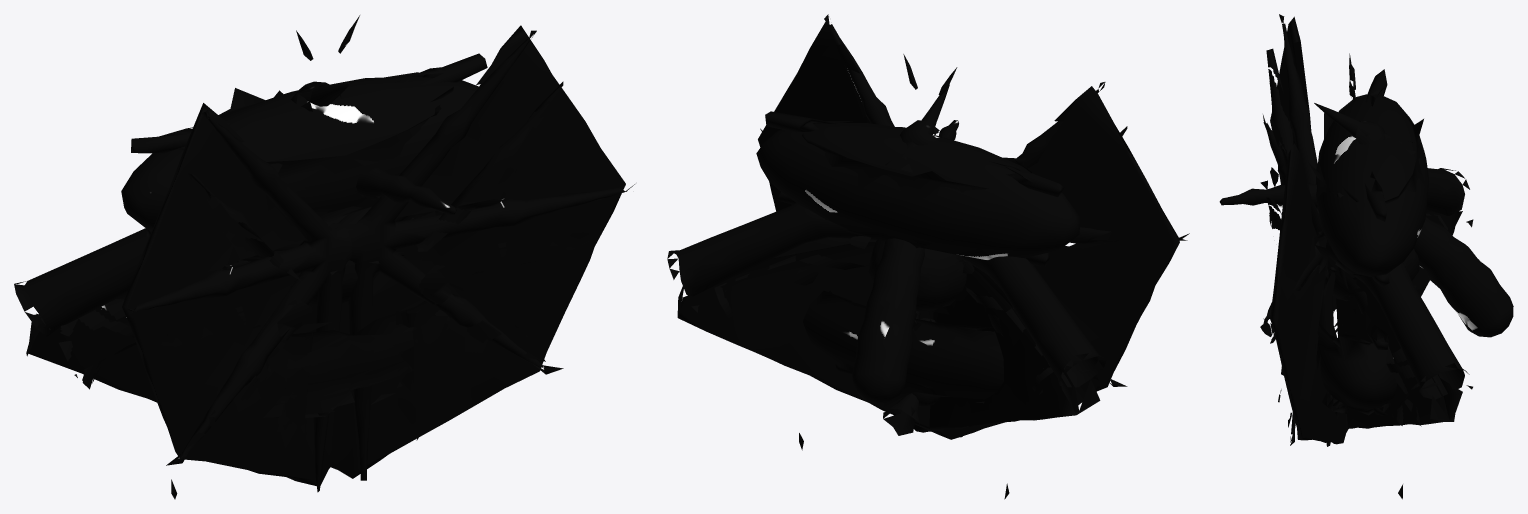
The model's file is CurseBack.obj.
3 views of the same model, side by side, from view 1: azimuth 30°, elevation 25°; view 2: azimuth 150°, elevation 25°; view 3: azimuth 270°, elevation 25° (orthographic). The views are drawn at different scales.
Visible parts, largest first — view 1: Wing_Membrane, Wing_Membrane_L, Shell_SkinDeep, BoneWing_Bone, BoneWing_Bone_L, Wing_SkinDark, Wing_SkinDark_L, Shell_SkinDark, Shell_BoneDark, Tendril_Skin; view 2: Wing_Membrane_L, Shell_SkinDeep, Wing_Membrane, BoneWing_Bone_L, Tendril_Skin, BoneWing_Bone, Shell_SkinDark, Shell_BoneDark, Spikes_Bone, Wing_SkinDark_L, Wing_Skin, Wing_SkinDark (+2 smaller); view 3: Shell_SkinDeep, Wing_Membrane, BoneWing_Bone_L, Tendril_Skin, Wing_Membrane_L, BoneWing_Bone, Wing_SkinDark_L, Shell_SkinDark, Shell_BoneDark, Wing_SkinDark, Spikes_Bone, BoneWing_Skin_L (+2 smaller).
Part boxes in pixels (x1=…): Wing_Membrane: x1=26, y1=25, x2=625, y2=478; Wing_Membrane_L: x1=122, y1=103, x2=443, y2=485; Shell_SkinDeep: x1=121, y1=76, x2=478, y2=417; BoneWing_Bone: x1=14, y1=30, x2=634, y2=480; BoneWing_Bone_L: x1=125, y1=110, x2=503, y2=492; Wing_SkinDark: x1=36, y1=81, x2=592, y2=423; Wing_SkinDark_L: x1=160, y1=173, x2=443, y2=450; Shell_SkinDark: x1=177, y1=72, x2=453, y2=417; Shell_BoneDark: x1=131, y1=53, x2=487, y2=295; Tendril_Skin: x1=356, y1=167, x2=456, y2=215; Wing_Membrane_L: x1=677, y1=86, x2=1179, y2=439; Shell_SkinDeep: x1=756, y1=123, x2=1080, y2=406; Wing_Membrane: x1=758, y1=21, x2=1100, y2=432; BoneWing_Bone_L: x1=667, y1=82, x2=1189, y2=437; Tendril_Skin: x1=852, y1=120, x2=958, y2=403; BoneWing_Bone: x1=760, y1=14, x2=1106, y2=387; Shell_SkinDark: x1=802, y1=121, x2=1033, y2=396; Shell_BoneDark: x1=765, y1=111, x2=1064, y2=314; Spikes_Bone: x1=883, y1=84, x2=949, y2=435; Wing_SkinDark_L: x1=691, y1=126, x2=1127, y2=319; Wing_Skin: x1=872, y1=248, x2=966, y2=312; Wing_SkinDark: x1=963, y1=260, x2=1100, y2=404; Shell_SkinDeep: x1=1315, y1=94, x2=1428, y2=419; Wing_Membrane: x1=1270, y1=143, x2=1462, y2=444; BoneWing_Bone_L: x1=1263, y1=14, x2=1469, y2=399; Tendril_Skin: x1=1219, y1=183, x2=1513, y2=337; Wing_Membrane_L: x1=1270, y1=16, x2=1462, y2=428; BoneWing_Bone: x1=1263, y1=145, x2=1469, y2=446; Wing_SkinDark_L: x1=1260, y1=48, x2=1472, y2=426; Shell_SkinDark: x1=1308, y1=94, x2=1429, y2=413; Shell_BoneDark: x1=1352, y1=69, x2=1390, y2=415; Wing_SkinDark: x1=1260, y1=197, x2=1473, y2=427; Spikes_Bone: x1=1314, y1=103, x2=1416, y2=287; BoneWing_Skin_L: x1=1325, y1=250, x2=1416, y2=301.
Size of the model in its own units: 2.58 by 2.26 by 1.56.
Materials: 13 (13 with a texture image).
